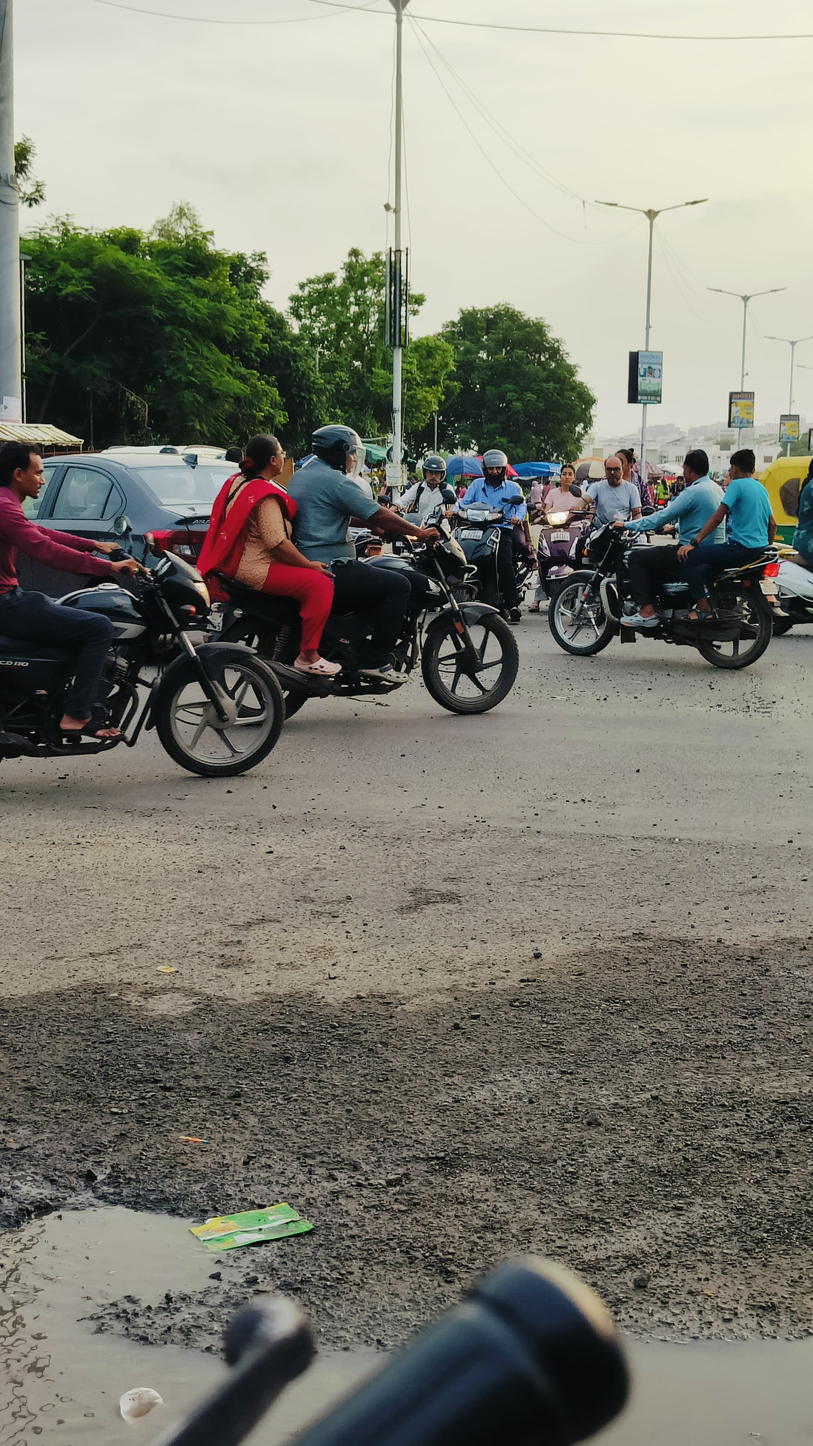BikeWithRider: (177, 418, 529, 729), (1, 428, 299, 790), (535, 439, 790, 678), (432, 442, 542, 621)
Helmet: (305, 420, 363, 474), (474, 446, 512, 483), (416, 451, 451, 486)
NoHelmet: (0, 433, 51, 506), (233, 430, 288, 487), (677, 445, 715, 489), (725, 445, 760, 483), (600, 453, 630, 489), (553, 459, 581, 494)
